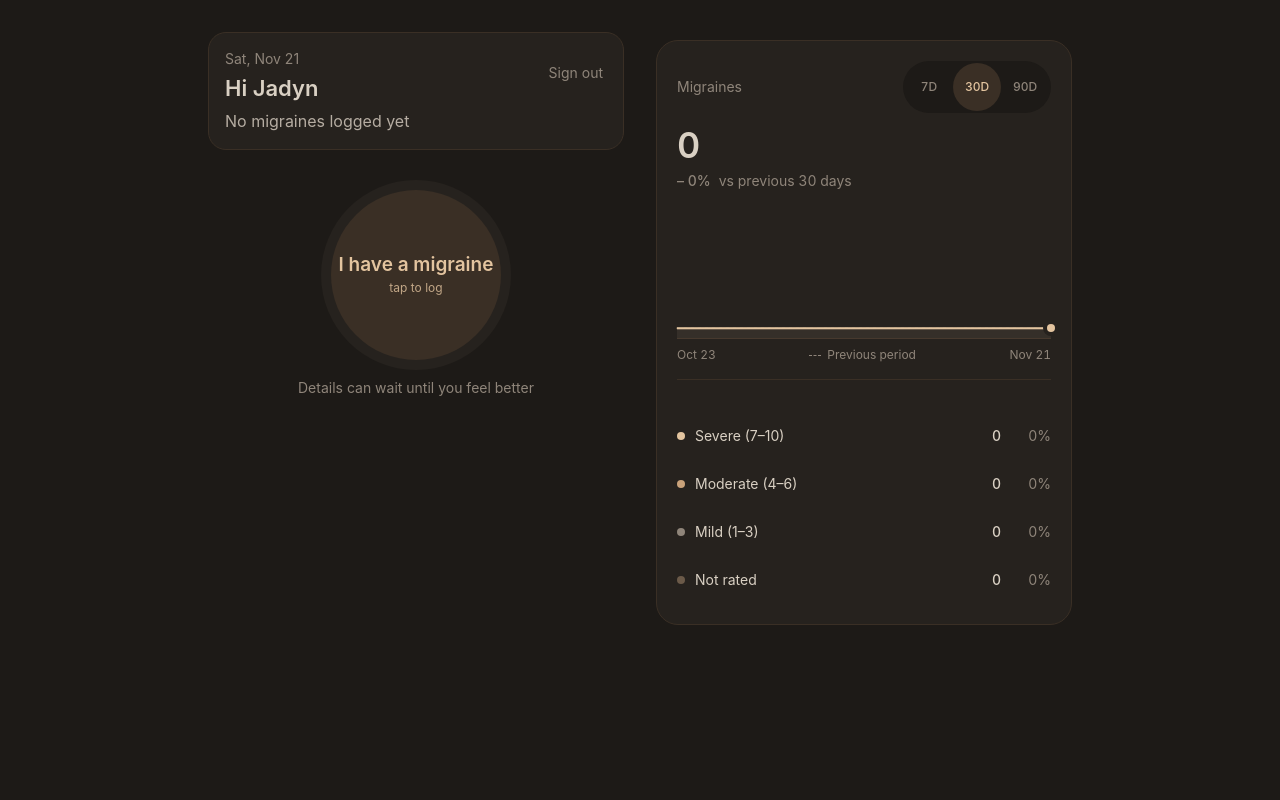
press to start, pick pain, press again to end: duration tracked automatically
The image size is (1280, 800).
Click the button "I have a migraine tap to log". click: (416, 274)
box: [331,190,501,360]
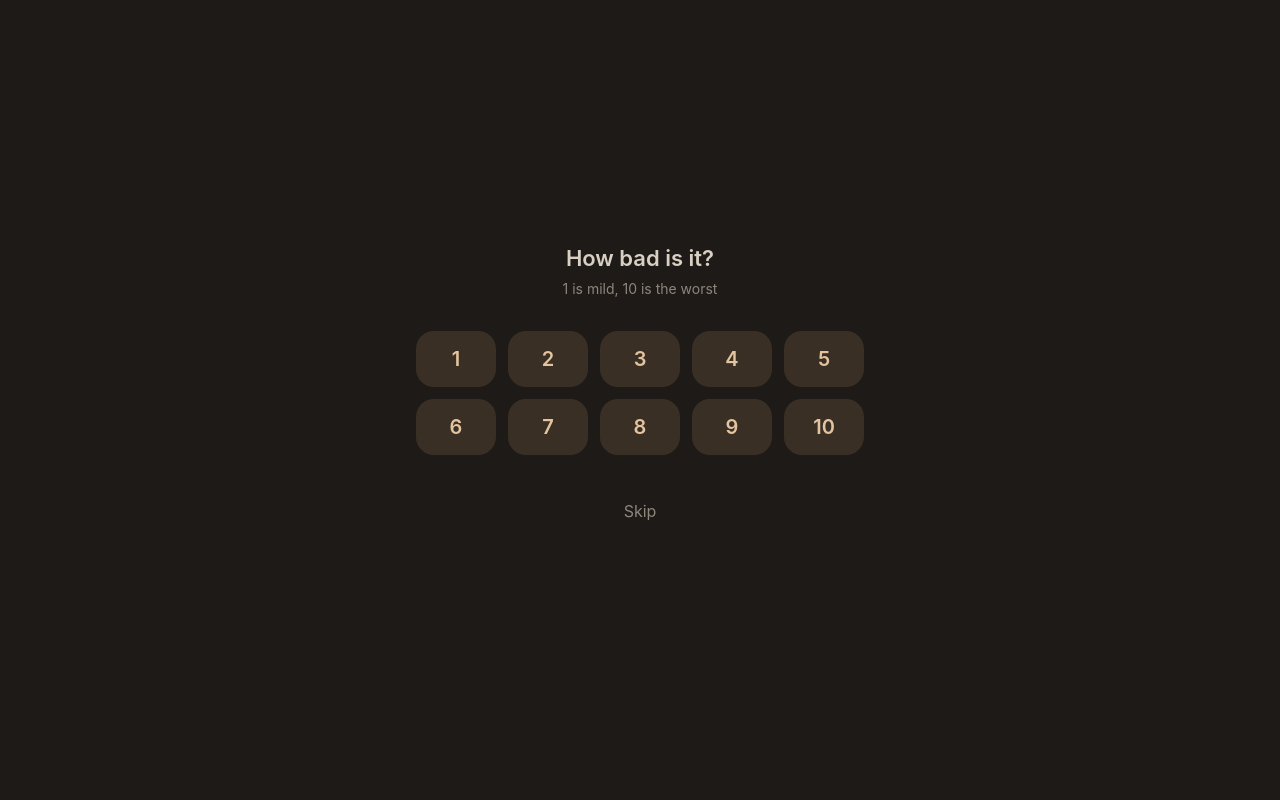
Click the button "6". click: (456, 426)
box: [416,398,496,454]
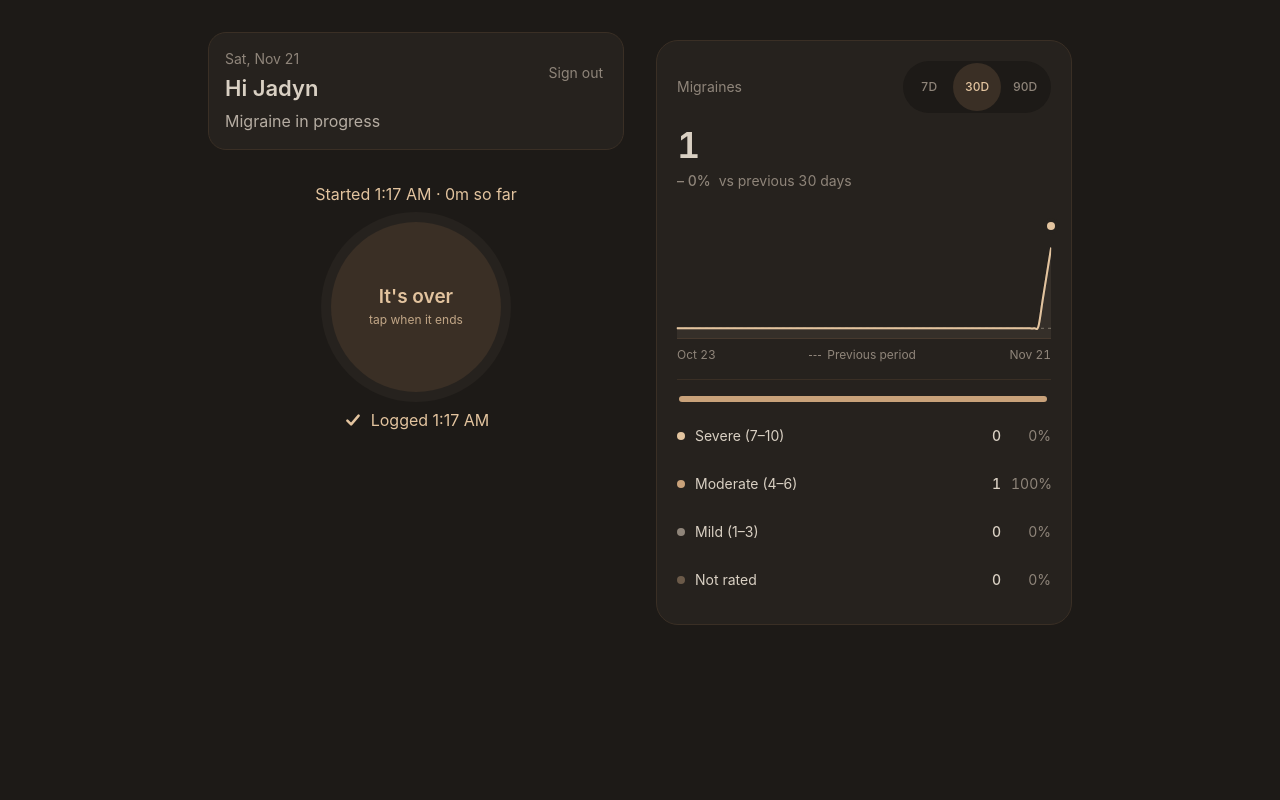
Click the button "It's over tap when it ends". click: (416, 306)
box: [331,222,501,392]
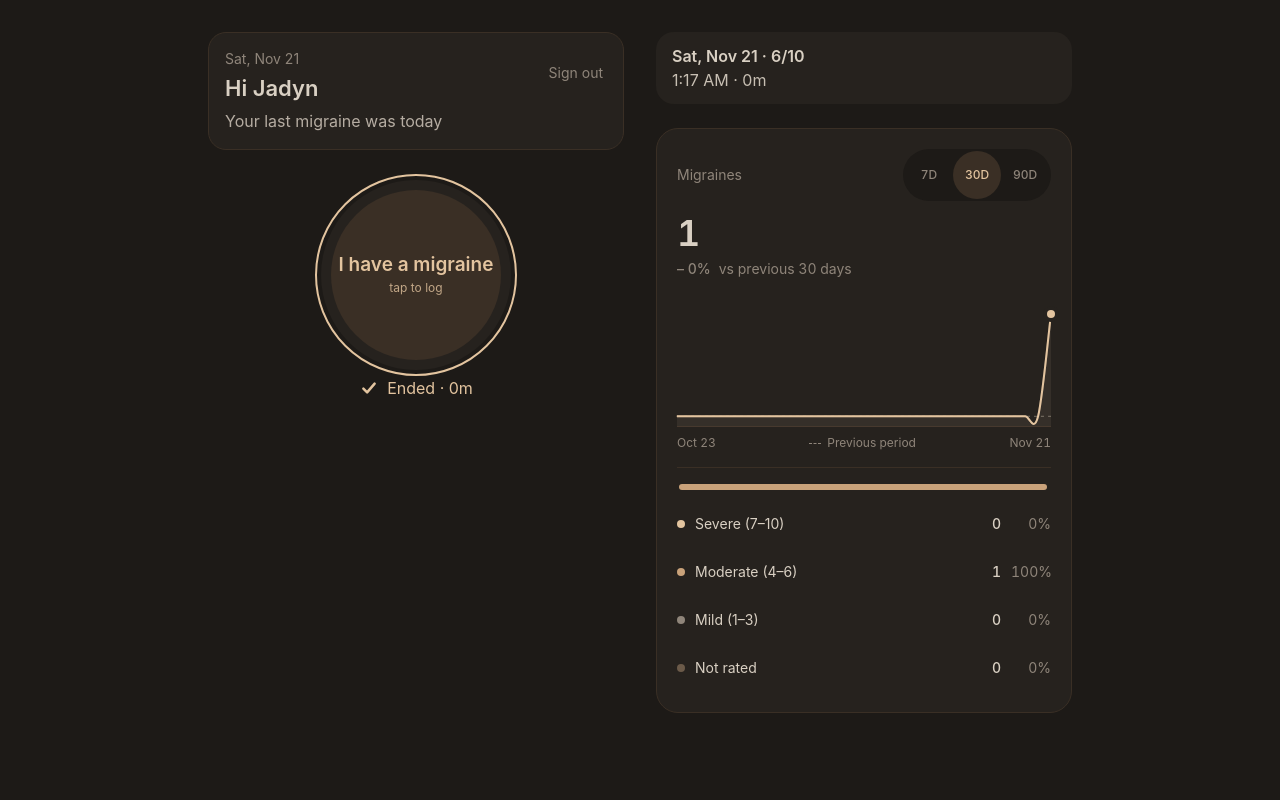
Expected: the button "I have a migraine tap to log" is shown, [331,190,501,360]
